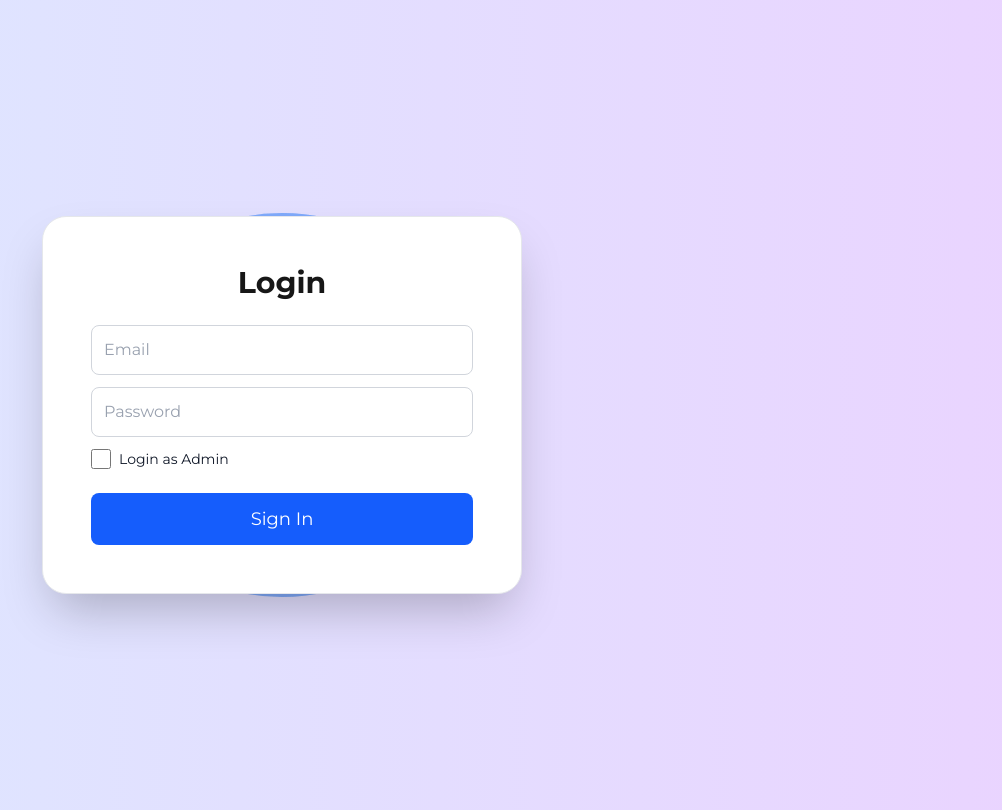
it: LoginPage › shows error for invalid email
Type "invalidemail" into the field with placeholder "Email". click: point(282, 350)
box: [91,325,473,375]
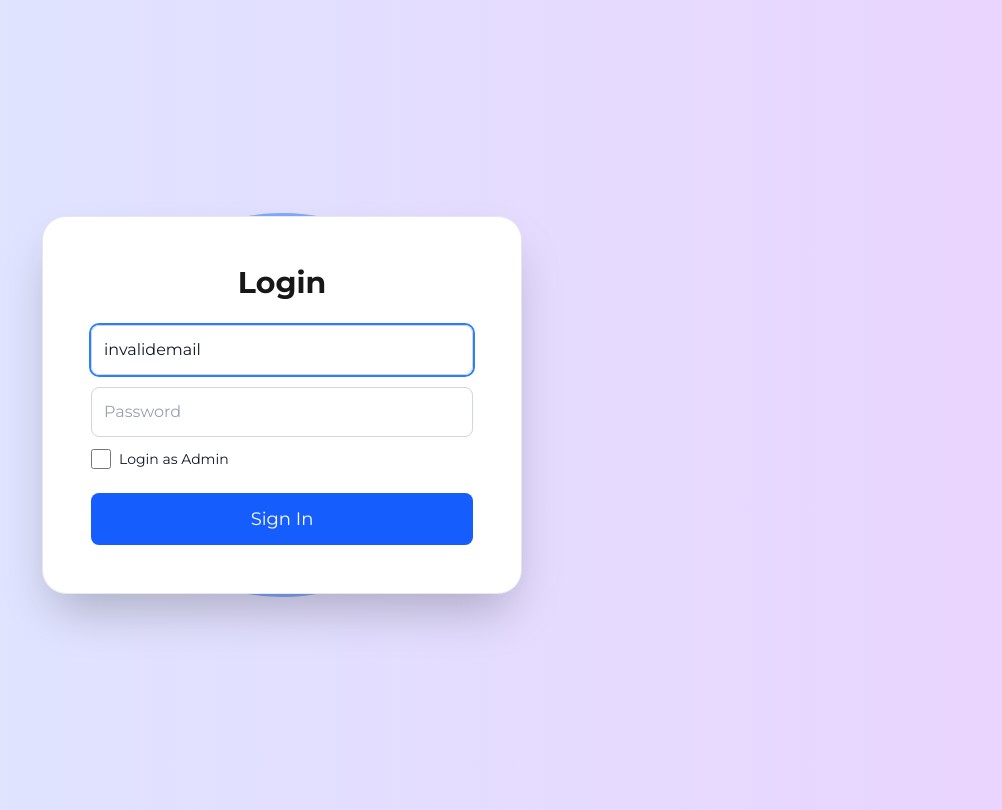
Type "password123" into the password field with placeholder "Password". click: point(282, 412)
box: [91,387,473,437]
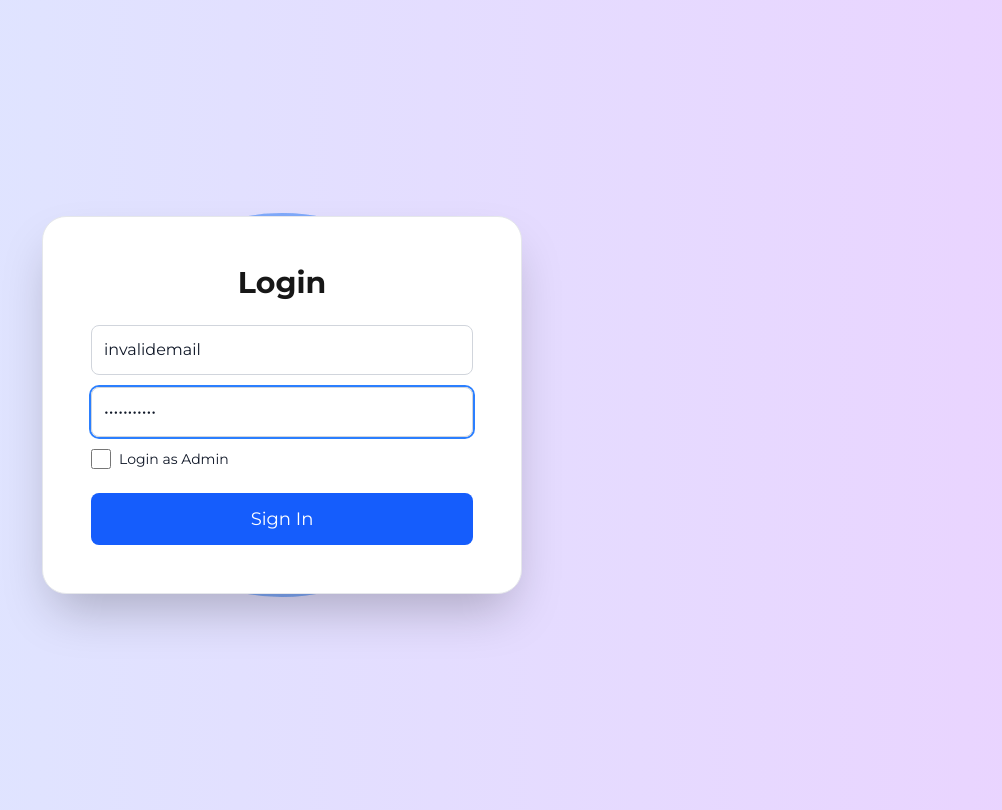
Click the button "Sign In". click: point(282, 519)
box: [91,493,473,545]
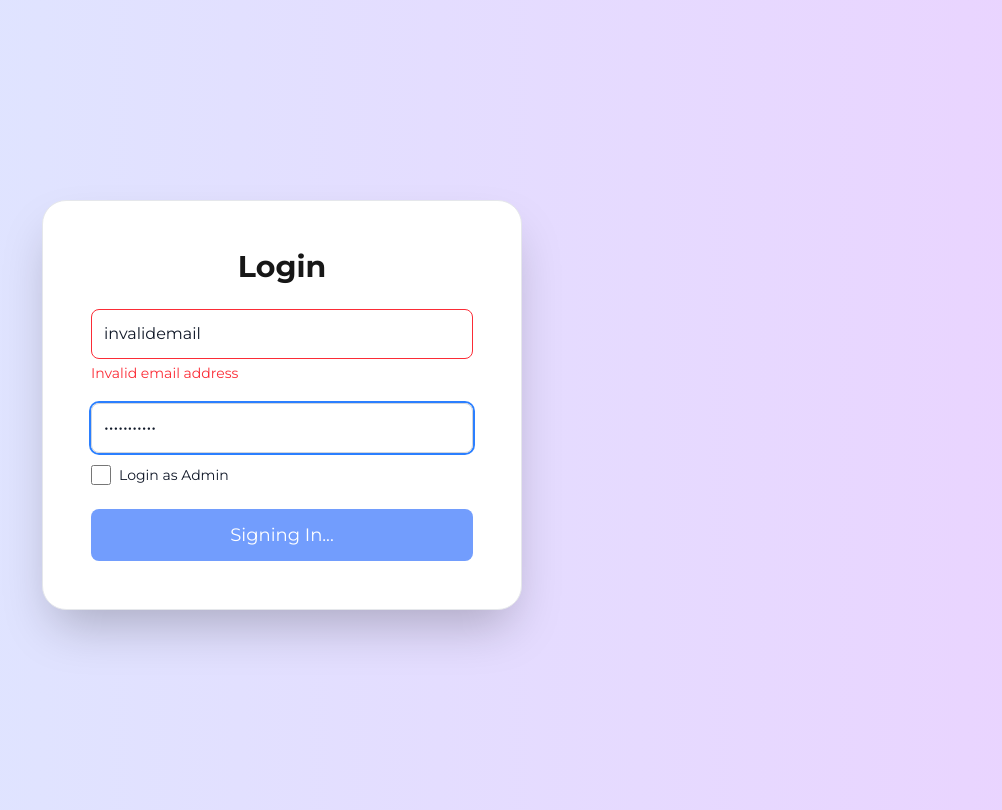
Check: the text "Invalid email address" is shown, box [91,364,238,382]
